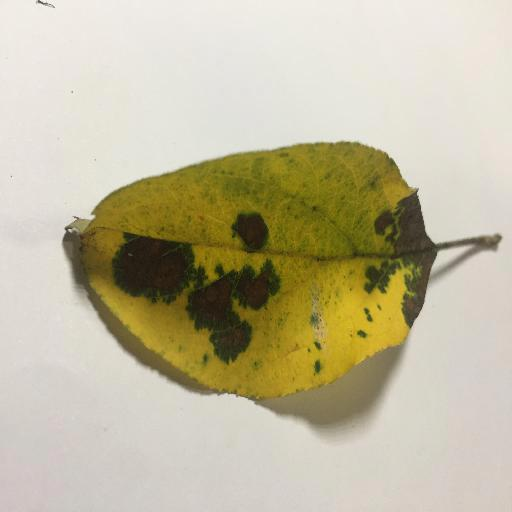Brown_Spot: (111, 240, 184, 290), (378, 259, 420, 321), (389, 207, 424, 252), (189, 287, 228, 324), (212, 322, 247, 354), (235, 274, 264, 307), (239, 220, 267, 245)
